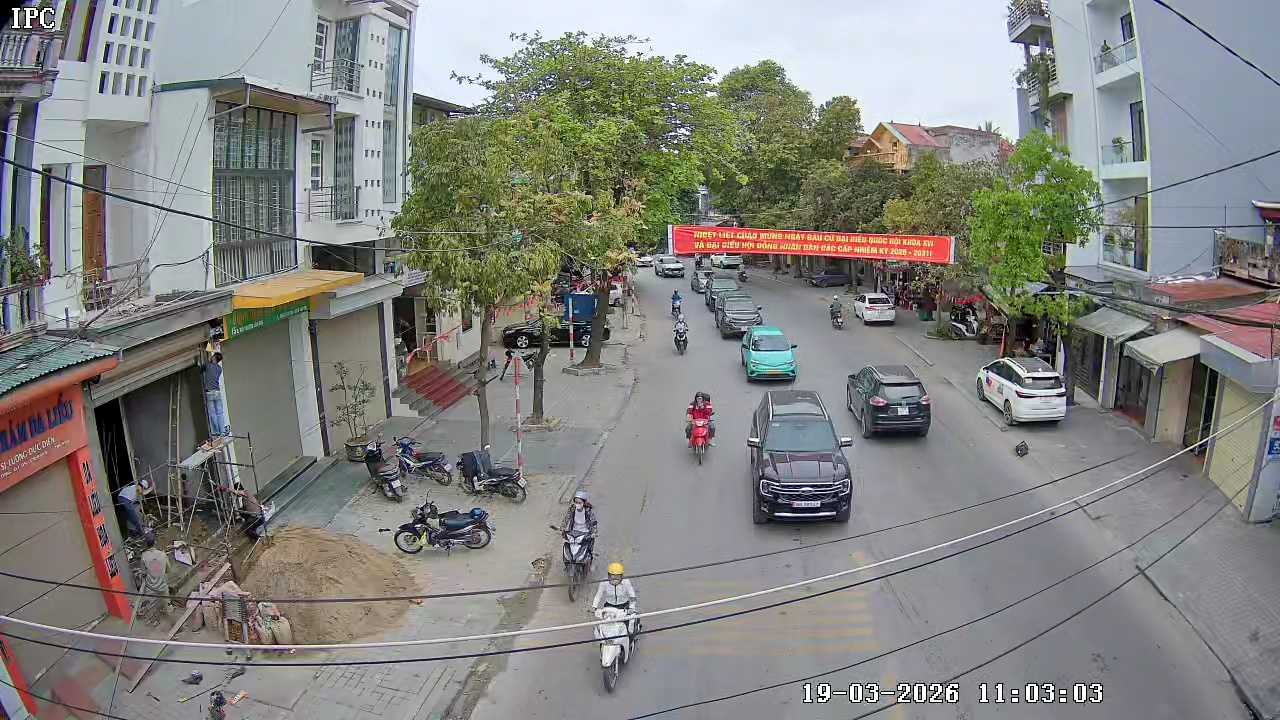car: (747, 387, 855, 525), (976, 354, 1069, 428), (846, 363, 932, 439), (739, 323, 800, 385), (713, 292, 765, 338), (857, 293, 897, 327), (657, 254, 686, 277)
motorbike: (587, 560, 646, 693), (393, 488, 496, 557), (555, 491, 601, 602), (455, 441, 529, 503), (685, 390, 717, 466), (672, 316, 689, 355), (829, 295, 846, 329), (670, 288, 684, 316)
